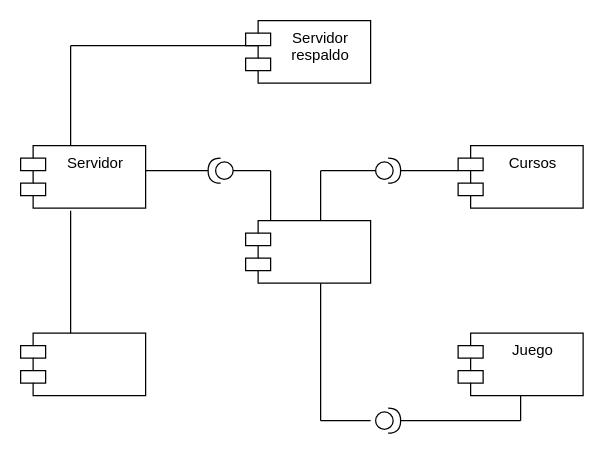
The diagram is 604 pixels wide and 454 high, and some of its shapes have lost their labels. The centre of each missing label's shape, as x and y in pixels:
"Base de datos" belongs at (82,364).
"Plataforma" belongs at (307,251).
